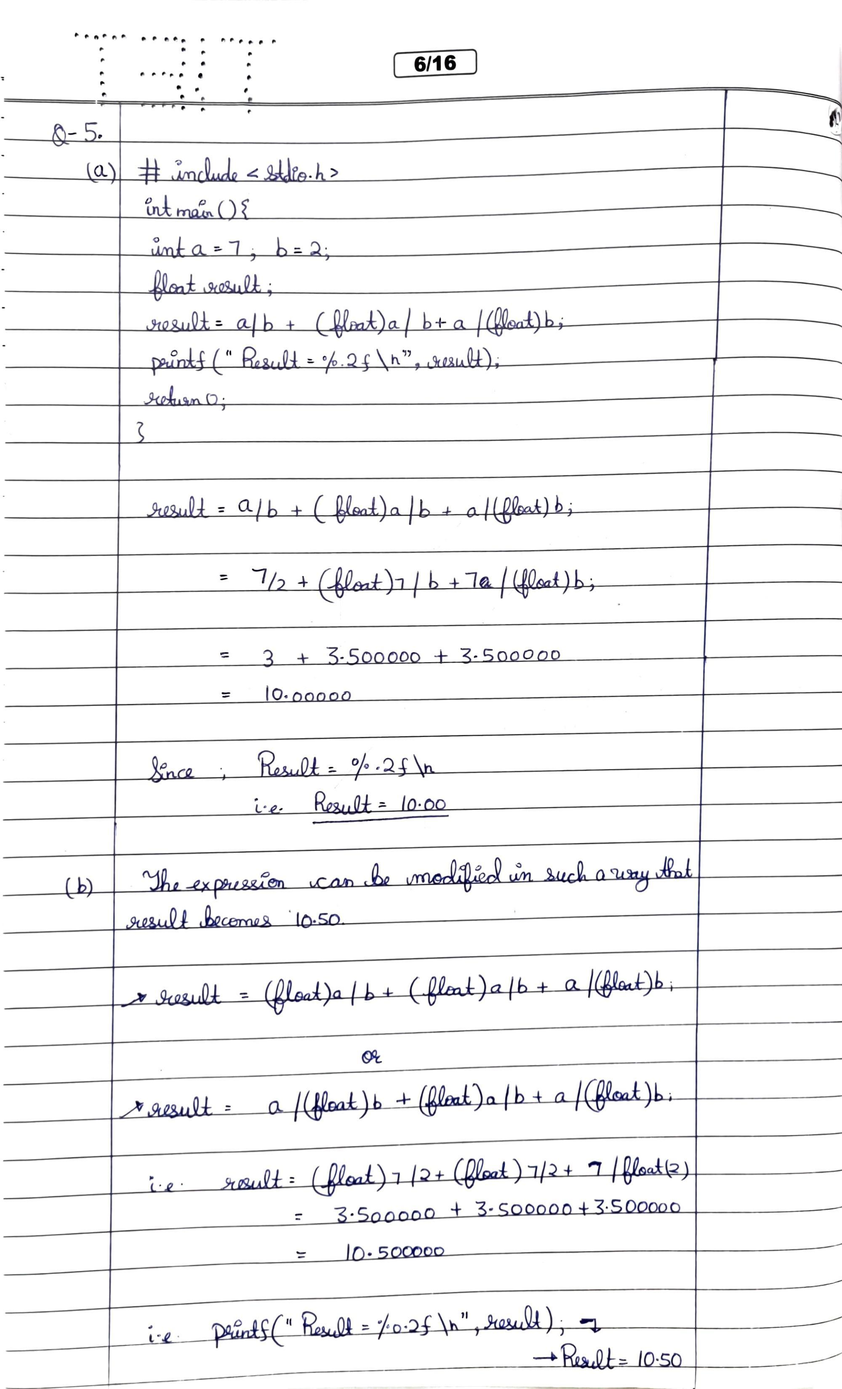cuttings: (479, 576, 495, 589)
